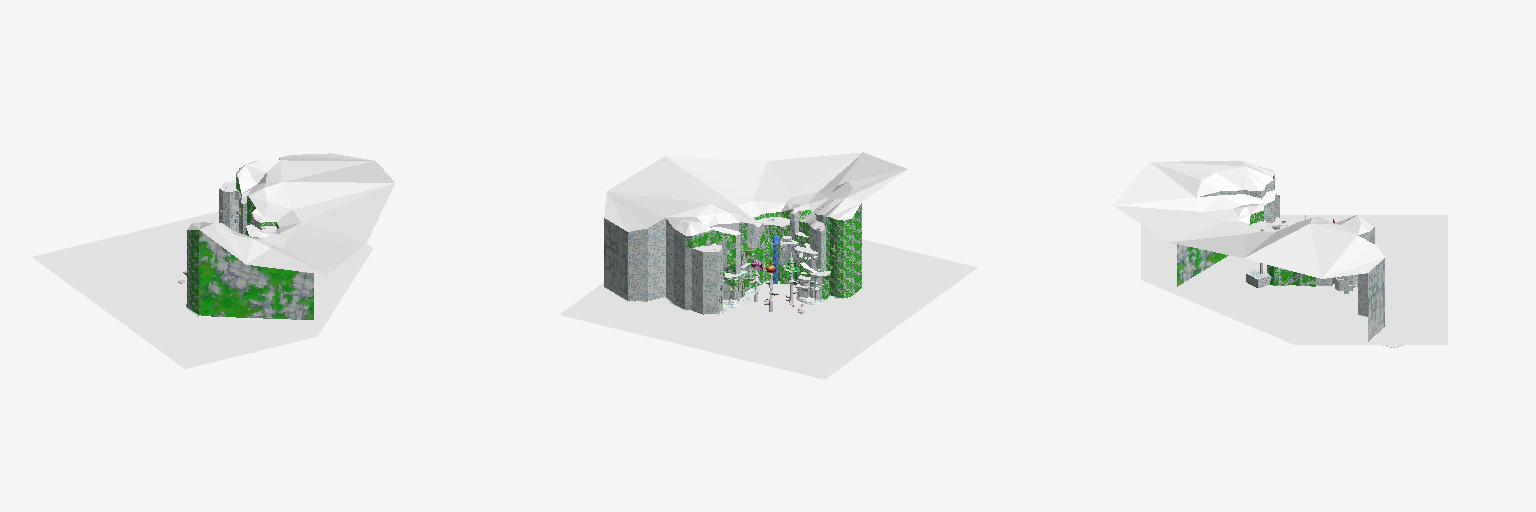
3 renders of one model, left to right at view 1: azimuth 30°, elevation 25°; view 2: azimuth 150°, elevation 25°; view 3: azimuth 270°, elevation 25°, orthographic.
Parts seen in each view (by area): view 1: Mesh_test.001; view 2: Mesh_test.001; view 3: Mesh_test.001.
Part boxes in pixels (bbox=[...]): Mesh_test.001: bbox=[32, 153, 394, 368]; Mesh_test.001: bbox=[560, 152, 977, 379]; Mesh_test.001: bbox=[1112, 161, 1447, 348].
Bounding box in the file's own units: 37.12 × 15.15 × 38.38.
22 materials, 10 textured.